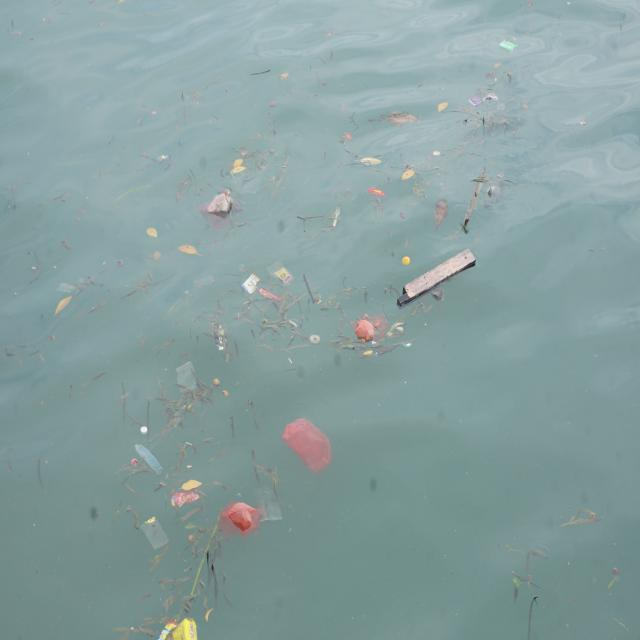Botol Plastik: (141, 425, 150, 437)
Kantong Plastik: (282, 414, 337, 479), (219, 501, 262, 540), (350, 309, 389, 345), (141, 516, 171, 551), (176, 361, 199, 395)
